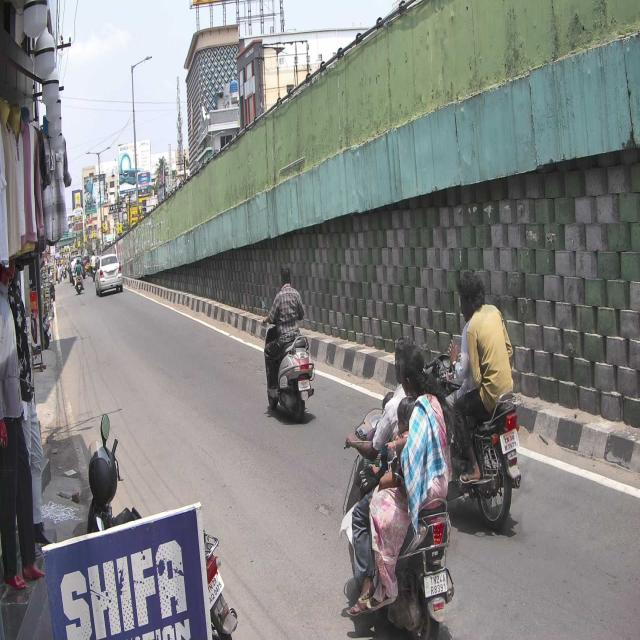double_rider: (340, 333, 446, 640), (450, 269, 524, 531)
single_rider: (260, 260, 316, 420)
